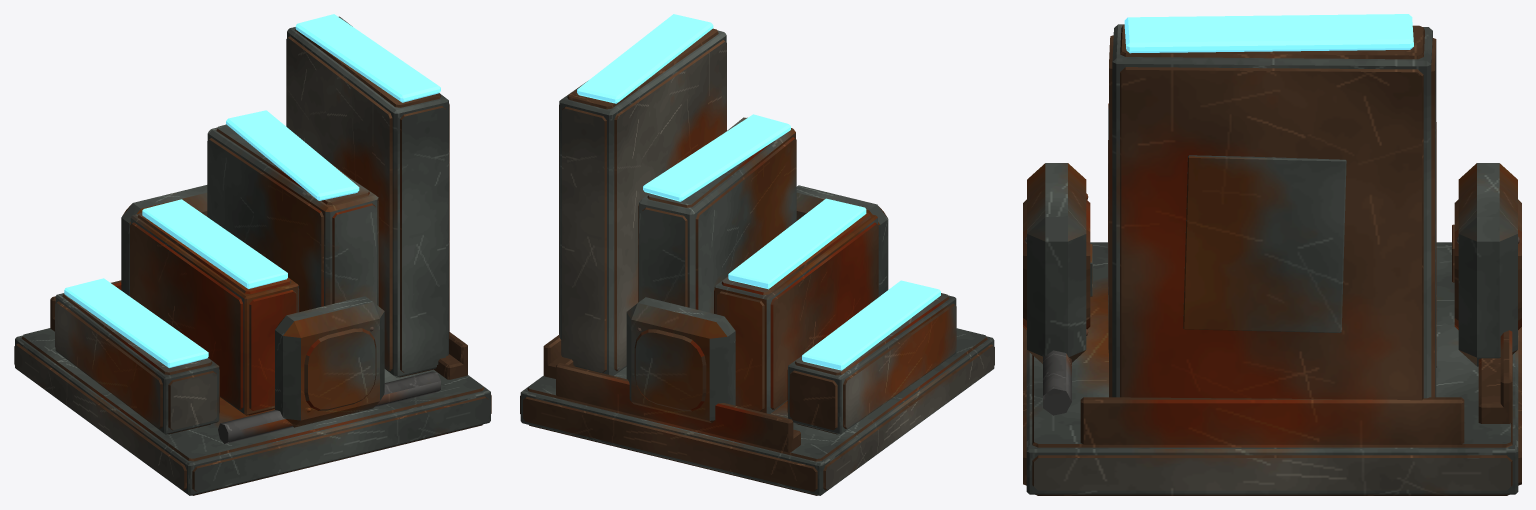
File: R4X_ModuleAmplifier.glb
3 views of the same model, side by side, from view 1: azimuth 30°, elevation 25°; view 2: azimuth 150°, elevation 25°; view 3: azimuth 270°, elevation 25° (orthographic). The views are drawn at different scales.
Visible parts, largest first — view 1: R4X_ModuleAmplifier_Body; view 2: R4X_ModuleAmplifier_Body; view 3: R4X_ModuleAmplifier_Body.
Part boxes in pixels (box(x1,y1,x2,y2)): R4X_ModuleAmplifier_Body: box(14, 14, 491, 495); R4X_ModuleAmplifier_Body: box(520, 14, 994, 495); R4X_ModuleAmplifier_Body: box(1023, 14, 1521, 495).
Bounding box in the file's own units: 0.52 × 0.512 × 0.52.
Materials: 5 (4 with a texture image).
